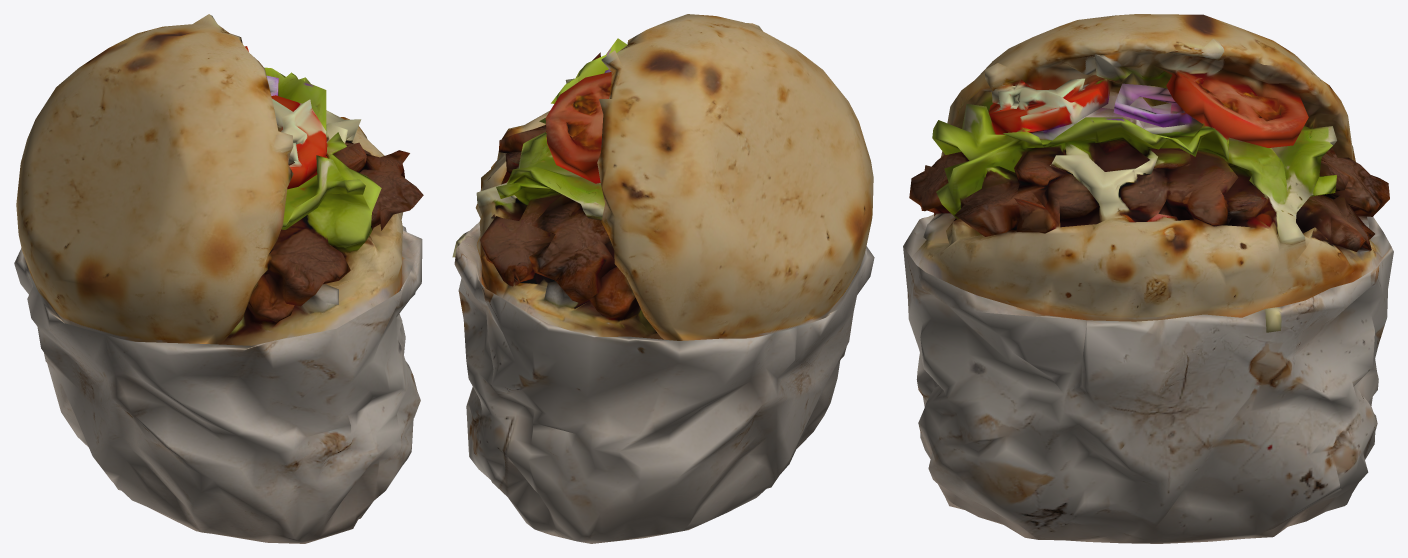
The model's file is pita.glb.
3 renders of one model, left to right at view 1: azimuth 30°, elevation 25°; view 2: azimuth 150°, elevation 25°; view 3: azimuth 270°, elevation 25°, orthographic. The views are drawn at different scales.
Visible parts, largest first — view 1: tripo_node_2a4d4e74-a07c-4289-9627-40876ceacc15; view 2: tripo_node_2a4d4e74-a07c-4289-9627-40876ceacc15; view 3: tripo_node_2a4d4e74-a07c-4289-9627-40876ceacc15.
Part boxes in pixels (x1,y1,x2,y2): tripo_node_2a4d4e74-a07c-4289-9627-40876ceacc15: [14, 14, 423, 543]; tripo_node_2a4d4e74-a07c-4289-9627-40876ceacc15: [452, 14, 874, 543]; tripo_node_2a4d4e74-a07c-4289-9627-40876ceacc15: [903, 14, 1393, 543].
Size of the model in its own units: 0.7705 by 0.9752 by 0.9335.
1 material, 1 textured.
